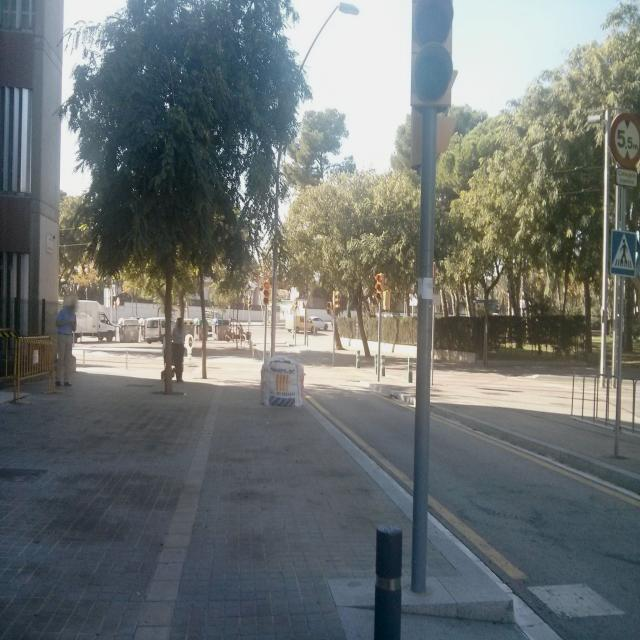bike: (222, 324, 245, 343)
car: (71, 299, 117, 343), (142, 316, 174, 342)
